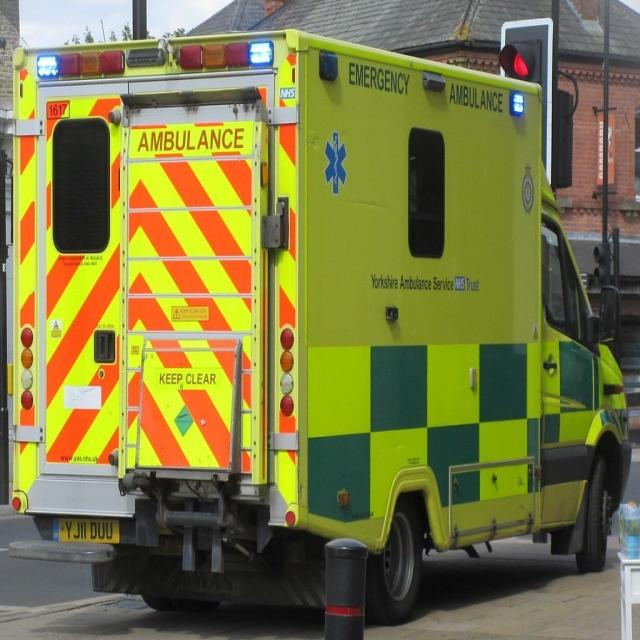ambulance: (6, 26, 632, 624)
